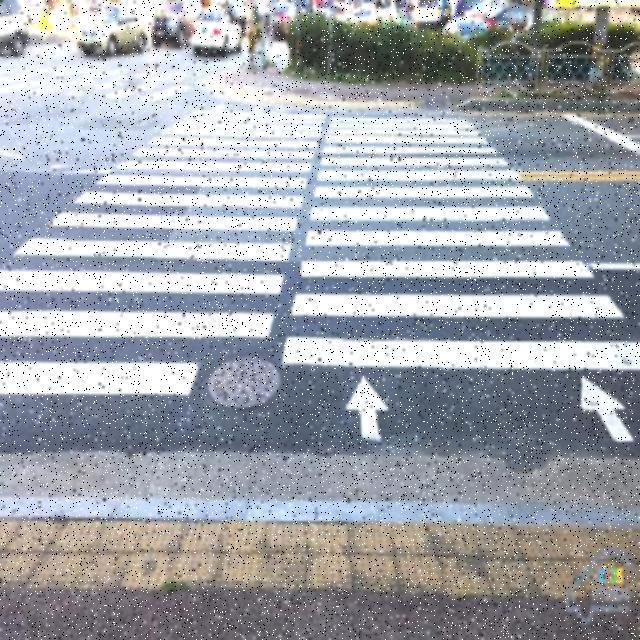crosswalk: (2, 103, 329, 398), (283, 115, 640, 374)
